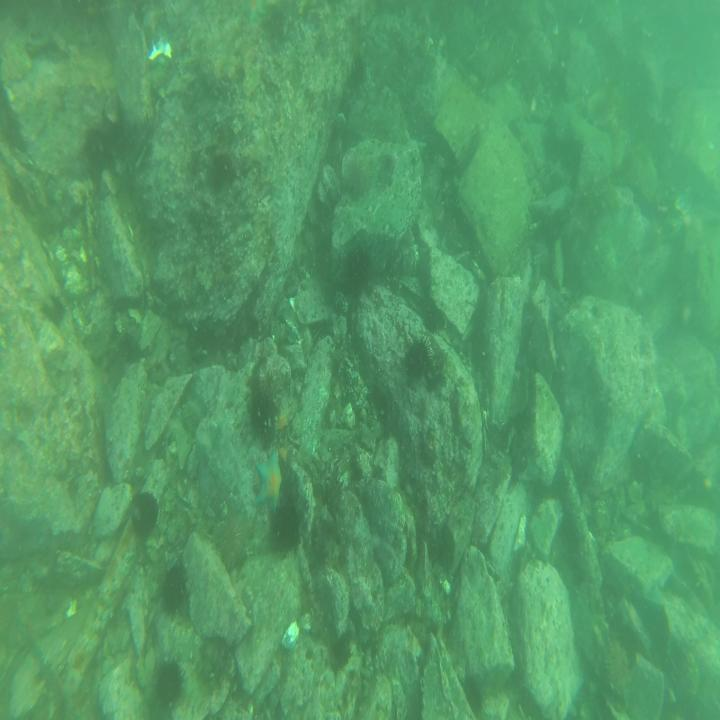echinus: (270, 496, 307, 568), (149, 650, 187, 715), (212, 510, 248, 576), (249, 387, 284, 445), (342, 242, 373, 302), (401, 334, 434, 390), (158, 561, 188, 620), (130, 487, 162, 537)
scallop: (148, 31, 175, 66)
starfish: (251, 444, 284, 510)
